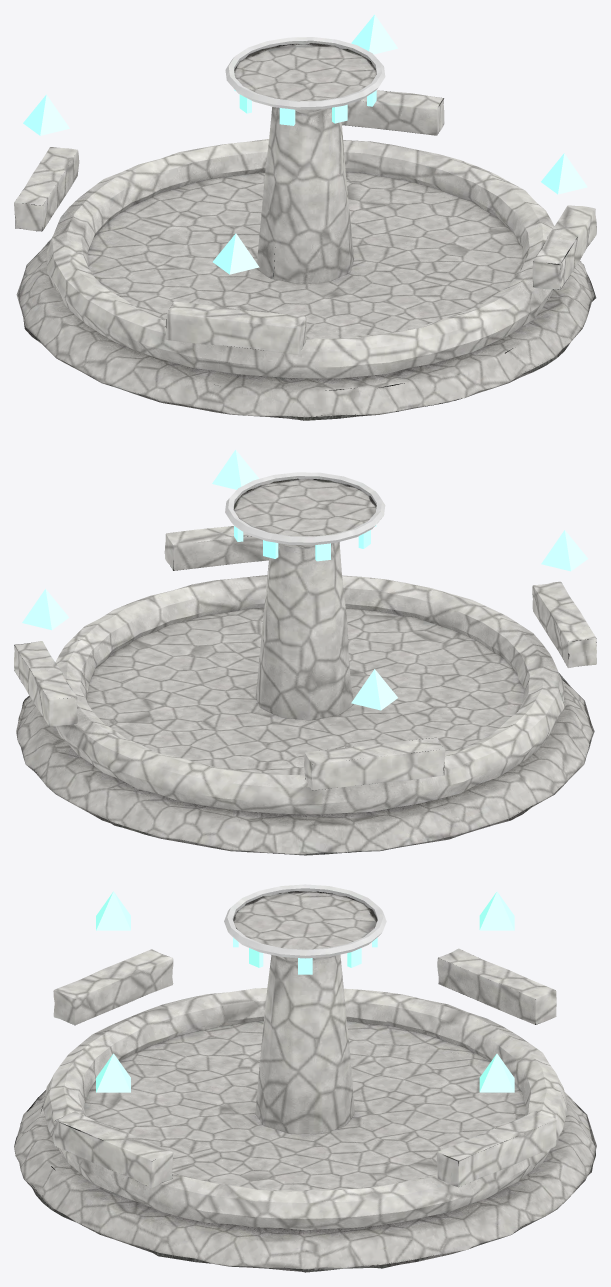
The model's file is fountain.glb.
3 renders of one model, top to bottom at view 1: azimuth 30°, elevation 25°; view 2: azimuth 150°, elevation 25°; view 3: azimuth 270°, elevation 25°, orthographic.
Visible parts, largest first — view 1: body, glow; view 2: body, glow; view 3: body, glow.
Boxes of the visible parts, <box> form: body: <box>14,37,596,420</box>; glow: <box>23,14,587,274</box>; body: <box>14,472,596,855</box>; glow: <box>22,449,588,710</box>; body: <box>14,884,596,1272</box>; glow: <box>96,891,514,1092</box>.
Bounding box in the file's own units: 9.94 × 4.34 × 9.89.
Materials: 2 (1 with a texture image).
